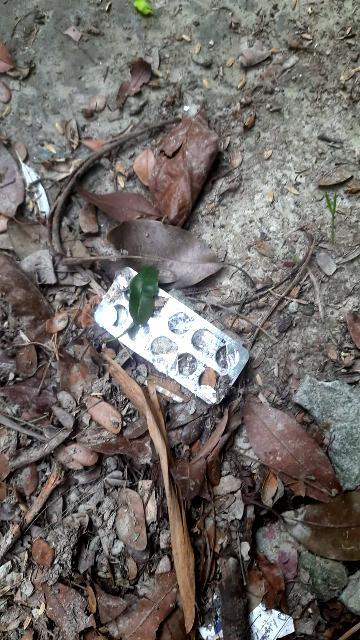medicine: (82, 262, 254, 406)
